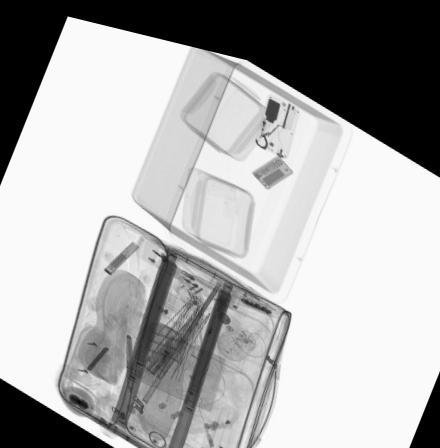Knife: (84, 340, 110, 366), (238, 284, 272, 300)
